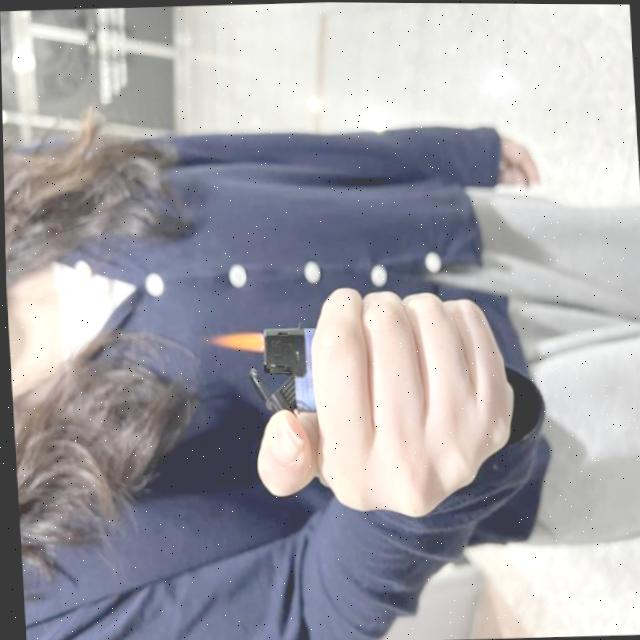Fire: (208, 328, 260, 356)
